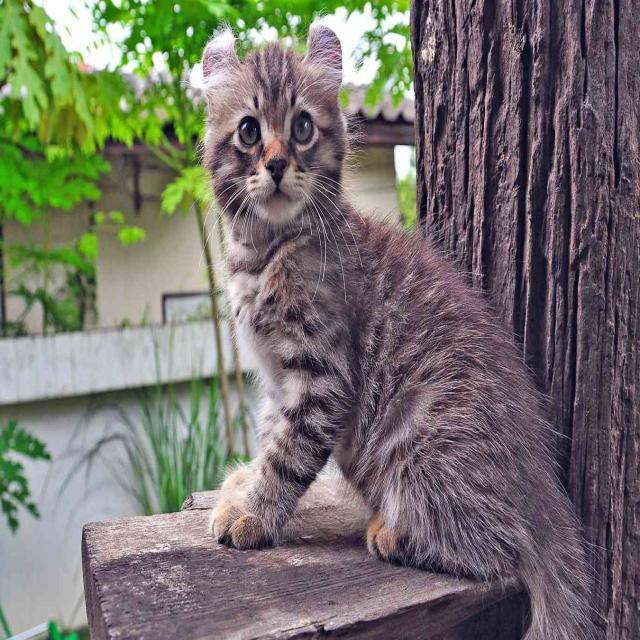American Curl: (197, 16, 595, 640)
